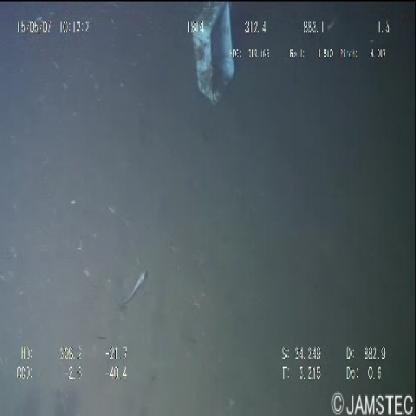Rác: (189, 2, 237, 112)
